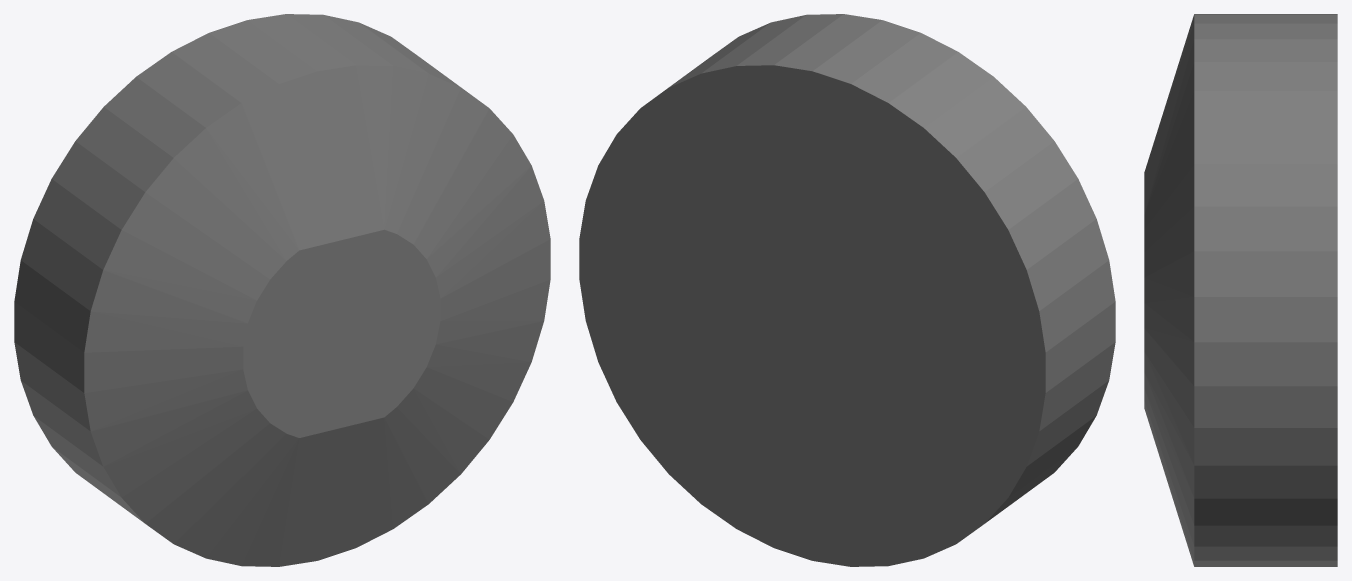
The model's file is grinder_collision.dae.
3 renders of one model, left to right at view 1: azimuth 30°, elevation 25°; view 2: azimuth 150°, elevation 25°; view 3: azimuth 270°, elevation 25°, orthographic. The views are drawn at different scales.
Parts seen in each view (by area): view 1: node; view 2: node; view 3: node.
Boxes of the visible parts, bbox=[...] form: node: bbox=[14, 14, 550, 566]; node: bbox=[579, 14, 1115, 566]; node: bbox=[1144, 14, 1337, 566].
Bounding box in the file's own units: 0.0329 × 0.033 × 0.0115.
1 material, 1 textured.
